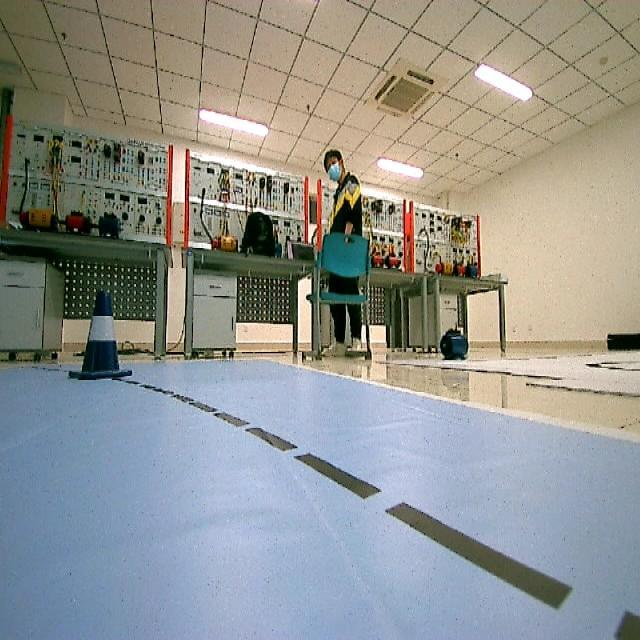obstacle: (61, 284, 140, 382)
